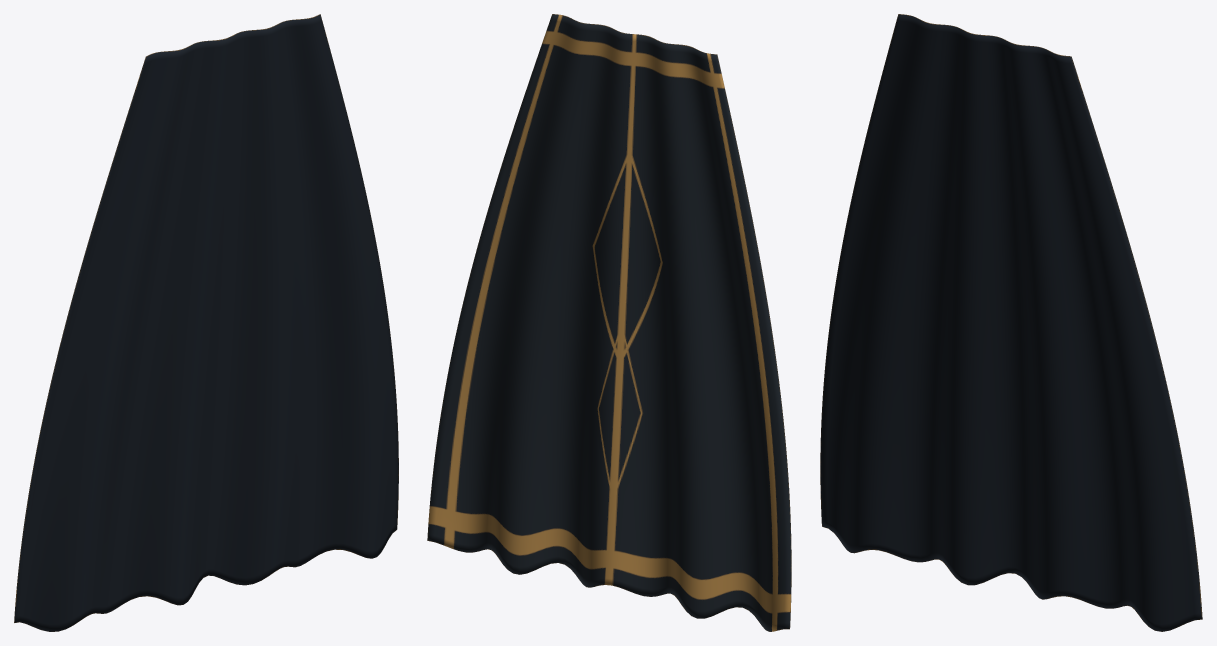
Rendered from SM_ObsidianSovereign_Cape_preview_2K.glb.
The picture shows the model from 3 angles, left to right: view 1: azimuth 30°, elevation 25°; view 2: azimuth 150°, elevation 25°; view 3: azimuth 330°, elevation 25°; orthographic projection. The views are drawn at different scales.
Parts seen in each view (by area): view 1: SM_ObsidianSovereign_Cape; view 2: SM_ObsidianSovereign_Cape; view 3: SM_ObsidianSovereign_Cape.
Part boxes in pixels (<box>): SM_ObsidianSovereign_Cape: <box>14,14,398,631</box>; SM_ObsidianSovereign_Cape: <box>427,14,791,631</box>; SM_ObsidianSovereign_Cape: <box>820,14,1202,631</box>.
Size of the model in its own units: 0.9004 by 1.29 by 0.1222.
Materials: 1 (1 with a texture image).
